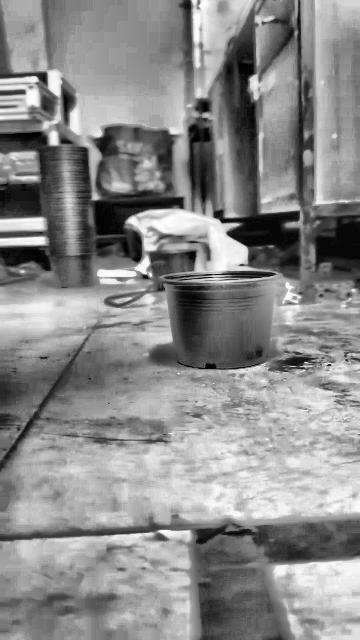pot: (161, 270, 279, 369)
